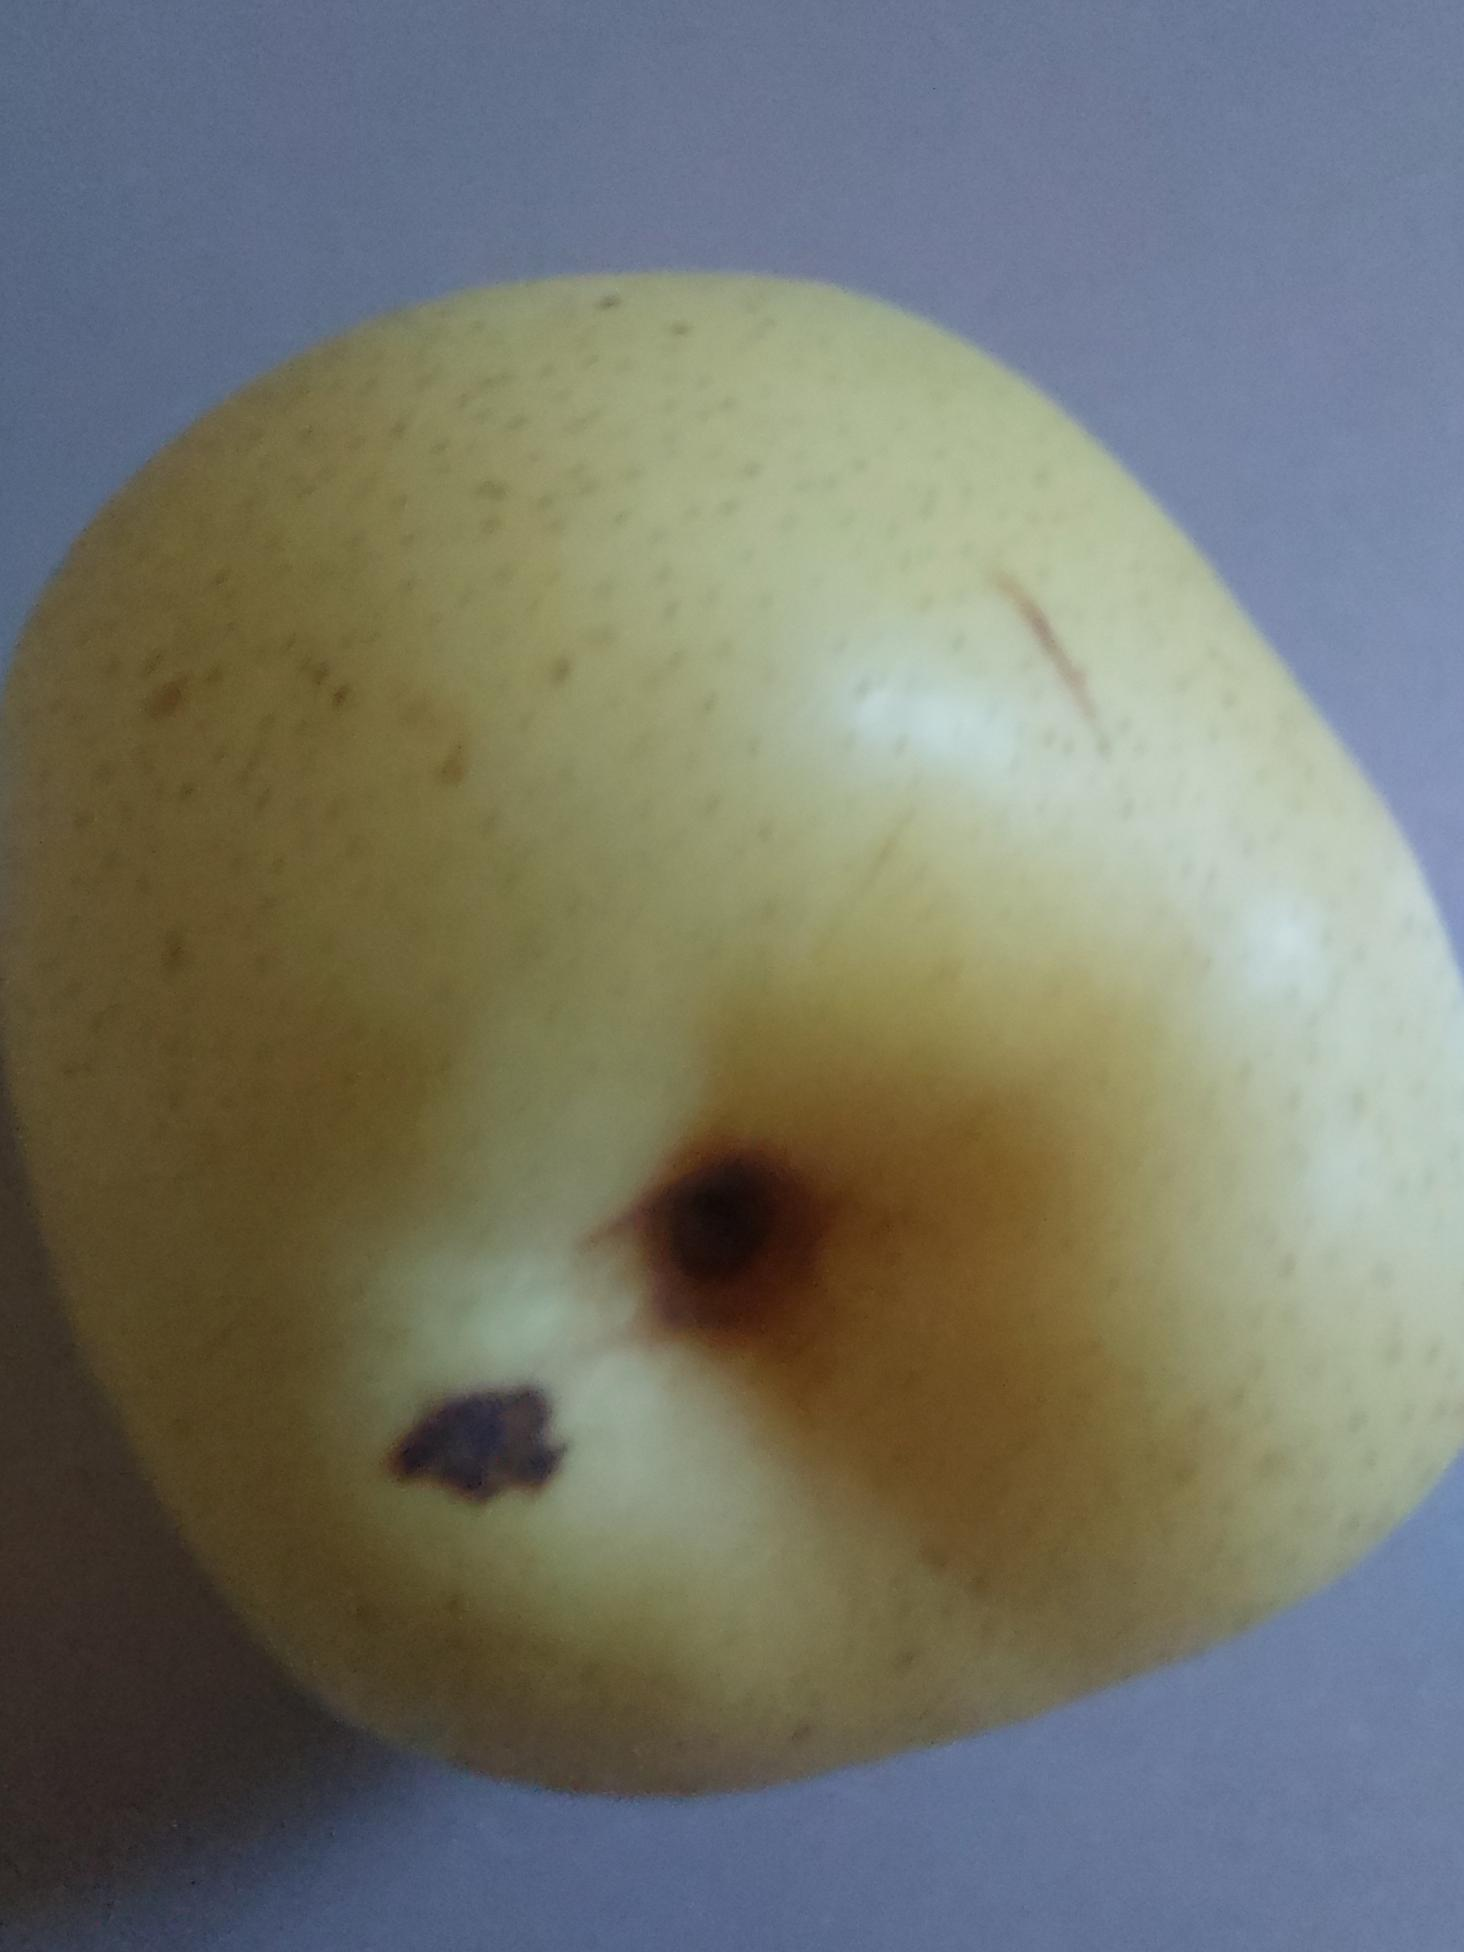Good Pear: (0, 234, 1464, 1852)
